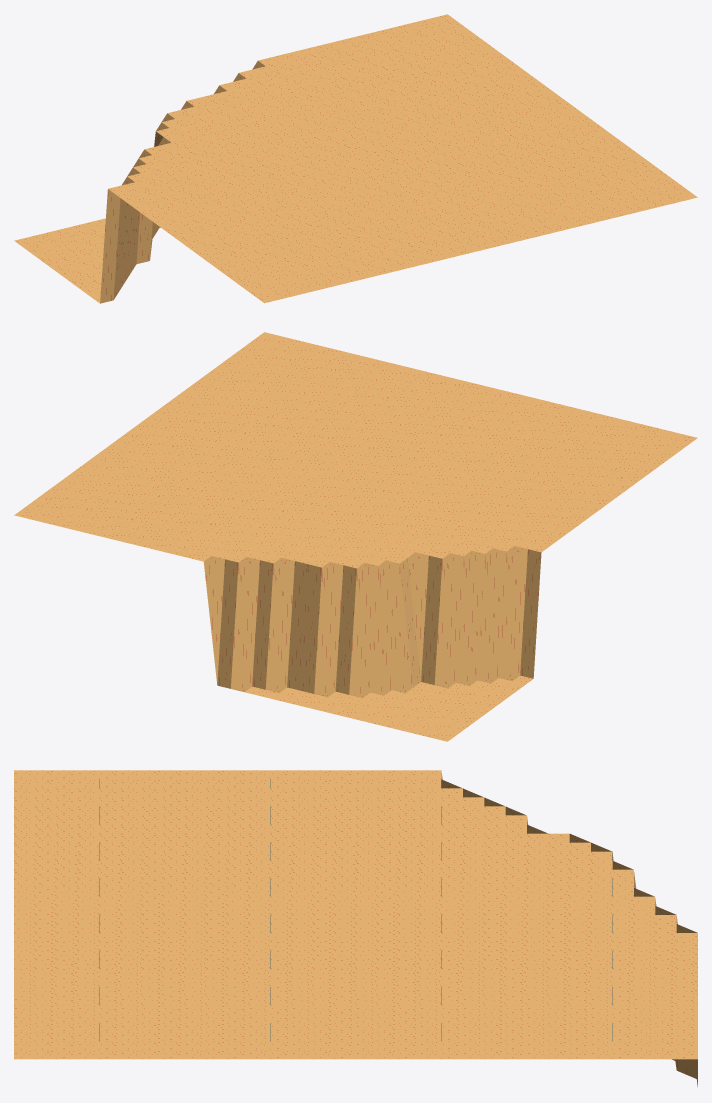
File: map_chunked_021.gltf
The picture shows the model from 3 angles, top to bottom: view 1: azimuth 30°, elevation 25°; view 2: azimuth 150°, elevation 25°; view 3: azimuth 270°, elevation 25°; orthographic projection. The views are drawn at different scales.
Visible parts, largest first — view 1: map_chunked.021; view 2: map_chunked.021; view 3: map_chunked.021.
Boxes of the visible parts, box(x1,y1,x2,y2) form: map_chunked.021: box(14, 14, 697, 303); map_chunked.021: box(14, 332, 697, 741); map_chunked.021: box(14, 770, 697, 1086).
Bounding box in the file's own units: 32 × 8.51 × 32.
1 material, 1 textured.
